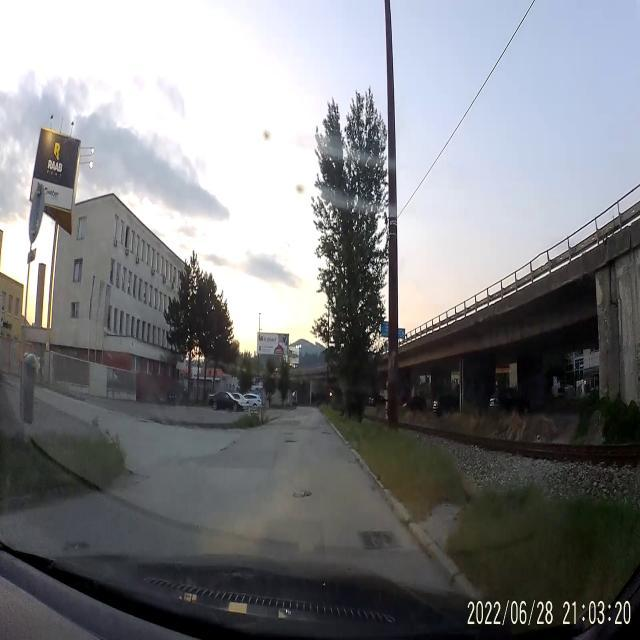Manhole: (354, 520, 400, 553)
Pothole: (292, 484, 314, 504)
